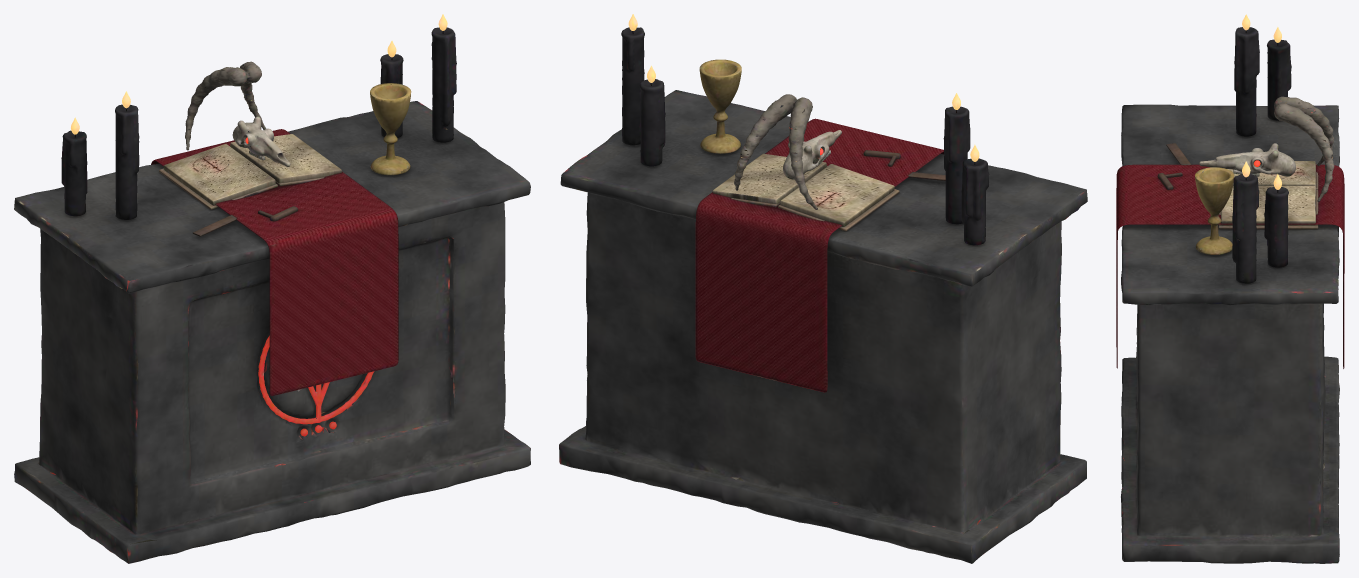
Rendered from black_altar.glb.
3 views of the same model, side by side, from view 1: azimuth 30°, elevation 25°; view 2: azimuth 150°, elevation 25°; view 3: azimuth 270°, elevation 25° (orthographic). The views are drawn at different scales.
Parts seen in each view (by area): view 1: Altar_Block, Altar_Runner, Altar_Wax, Grimoire_Pages, Chalice, Goat_Horns, Altar_Sigil, Goat_Skull, Grimoire_Cover; view 2: Altar_Block, Altar_Runner, Altar_Wax, Grimoire_Pages, Goat_Horns, Chalice, Goat_Skull, Grimoire_Cover; view 3: Altar_Block, Altar_Wax, Altar_Runner, Grimoire_Pages, Chalice, Goat_Horns, Goat_Skull, Athame, Altar_Flames, Grimoire_Cover.
Boxes of the visible parts, x1,y1,x2,y2 form: Altar_Block: (14,101,530,563); Altar_Runner: (151,129,398,395); Altar_Wax: (61,27,456,219); Grimoire_Pages: (163,134,341,205); Chalice: (370,83,411,175); Goat_Horns: (185,61,266,150); Altar_Sigil: (258,335,374,436); Goat_Skull: (232,116,290,166); Grimoire_Cover: (159,168,343,209); Altar_Block: (559,90,1087,563); Altar_Runner: (695,118,943,392); Altar_Wax: (621,27,989,245); Grimoire_Pages: (712,153,894,226); Goat_Horns: (734,94,817,209); Chalice: (699,59,741,153); Goat_Skull: (783,130,841,179); Grimoire_Cover: (731,166,899,231); Altar_Block: (1121,104,1339,563); Altar_Wax: (1232,27,1291,283); Altar_Runner: (1116,164,1344,368); Grimoire_Pages: (1221,161,1315,225); Chalice: (1195,167,1234,254); Goat_Horns: (1274,96,1334,201); Goat_Skull: (1199,143,1295,176); Athame: (1157,143,1191,189); Altar_Flames: (1242,14,1281,189); Grimoire_Cover: (1218,164,1318,229).
Bounding box in the file's own units: 1.41 × 1.37 × 0.7216.
1 material, 1 textured.
